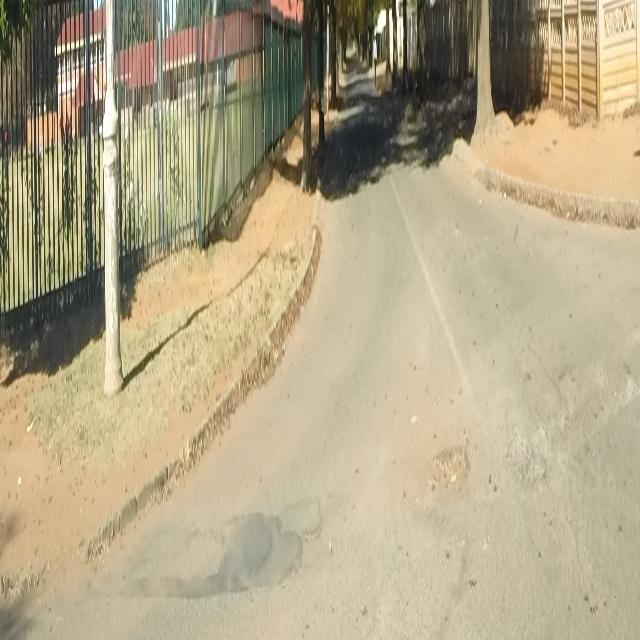pothole: (502, 404, 548, 488), (431, 432, 470, 488)
